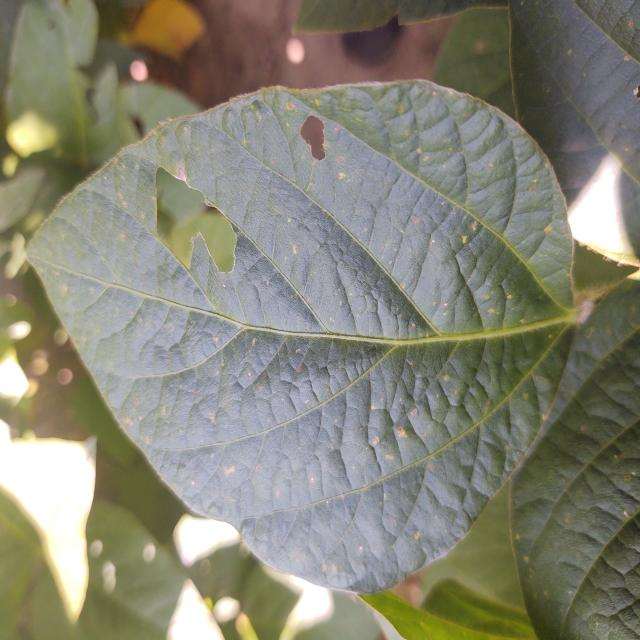Soybean: (24, 79, 580, 597)
downey_mildew: (170, 113, 369, 327), (32, 175, 236, 356), (63, 284, 415, 378), (213, 362, 350, 558), (410, 325, 561, 496), (286, 174, 443, 328), (423, 192, 576, 322), (120, 332, 245, 460), (163, 116, 271, 229), (381, 458, 468, 587), (548, 400, 640, 521), (226, 92, 322, 202), (501, 141, 568, 294), (237, 335, 335, 436), (151, 164, 232, 285), (569, 31, 640, 148), (245, 482, 379, 526), (320, 84, 393, 163), (567, 224, 640, 298), (298, 114, 331, 164), (453, 221, 485, 261), (365, 432, 402, 465)
